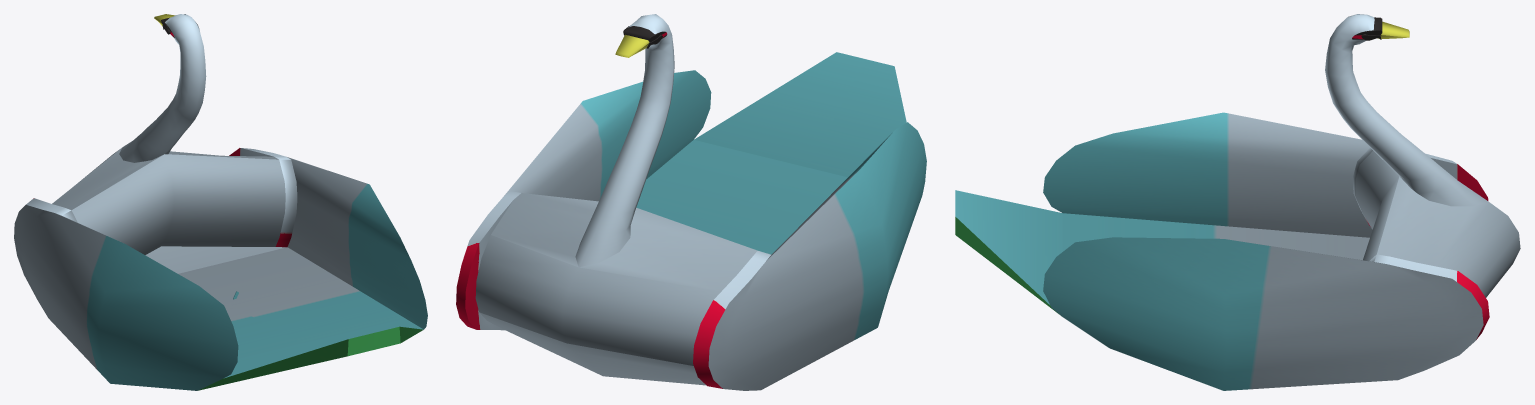
Rendered from SM_SwanBoat_01.fbx.
3 renders of one model, left to right at view 1: azimuth 30°, elevation 25°; view 2: azimuth 150°, elevation 25°; view 3: azimuth 270°, elevation 25°, orthographic. The views are drawn at different scales.
Parts seen in each view (by area): view 1: SM_SwanBoat_01; view 2: SM_SwanBoat_01; view 3: SM_SwanBoat_01.
Boxes of the visible parts, x1,y1,x2,y2 form: SM_SwanBoat_01: (14, 14, 427, 390); SM_SwanBoat_01: (456, 14, 926, 390); SM_SwanBoat_01: (955, 14, 1520, 390).
Size of the model in its own units: 2.35 by 3.67 by 2.2.
